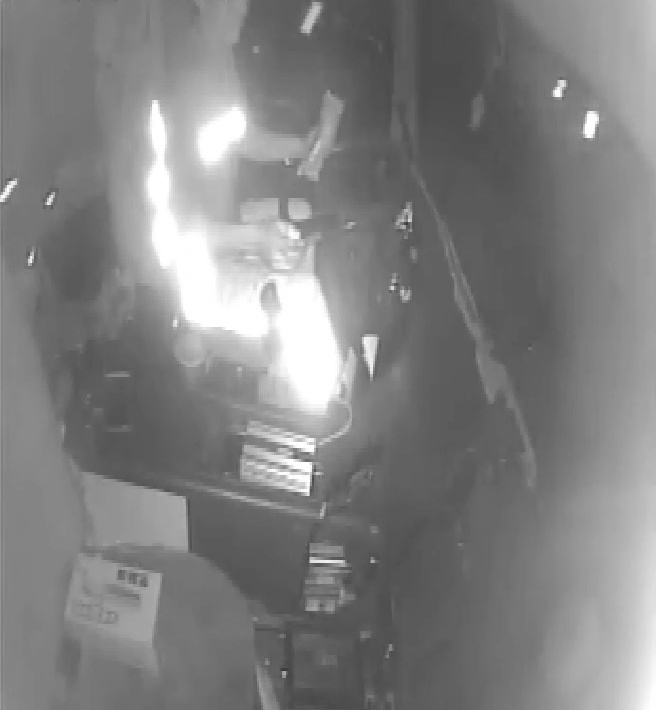cellphone: (272, 220, 326, 270)
